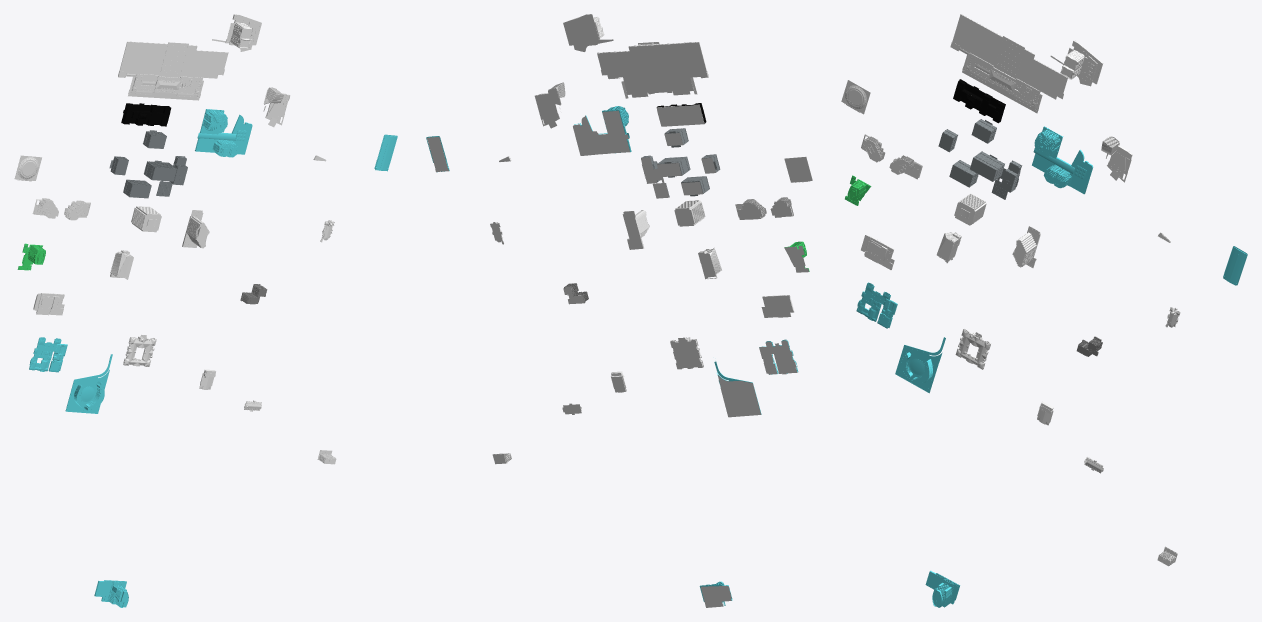
The picture shows the model from 3 angles, left to right: view 1: azimuth 30°, elevation 25°; view 2: azimuth 150°, elevation 25°; view 3: azimuth 330°, elevation 25°; orthographic projection. The views are drawn at different scales.
Size of the model in its own units: 5919 by 8282 by 291.
